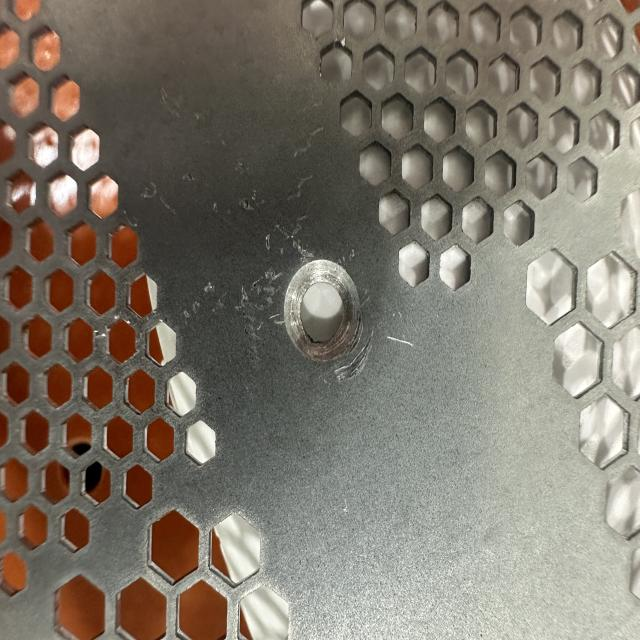Missing screw: (272, 242, 376, 374)
